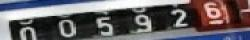digits: (200, 0, 234, 32), (127, 14, 152, 34), (169, 8, 188, 27), (94, 16, 112, 36), (57, 19, 75, 37), (18, 25, 37, 39)
